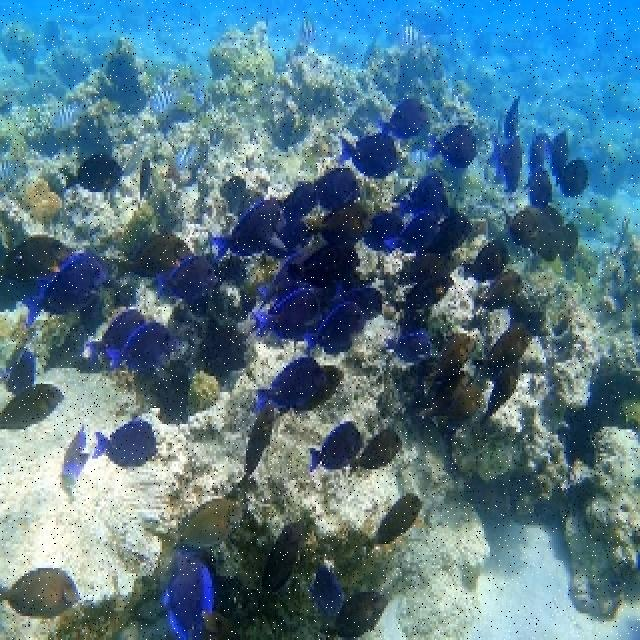fish: (22, 250, 116, 330), (149, 498, 242, 562), (354, 492, 425, 570), (208, 193, 282, 258), (165, 555, 218, 637), (253, 285, 330, 340), (0, 568, 82, 619), (255, 359, 328, 411), (0, 238, 72, 284), (385, 211, 451, 259), (102, 319, 165, 369), (241, 403, 276, 493), (338, 132, 405, 179), (55, 150, 123, 193), (151, 261, 219, 304), (95, 423, 156, 470), (0, 384, 63, 429), (307, 422, 366, 470), (425, 127, 480, 167), (41, 97, 103, 132), (457, 240, 511, 280), (150, 81, 184, 118), (0, 152, 29, 194), (180, 132, 211, 166)
